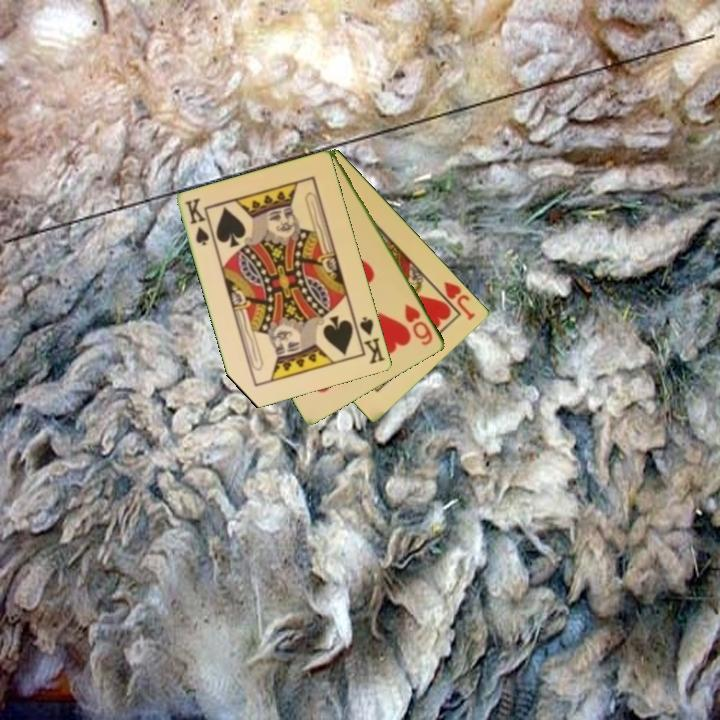6h: (401, 300, 436, 349)
Jh: (432, 278, 479, 323)
Ks: (351, 313, 389, 367), (181, 195, 212, 249)
